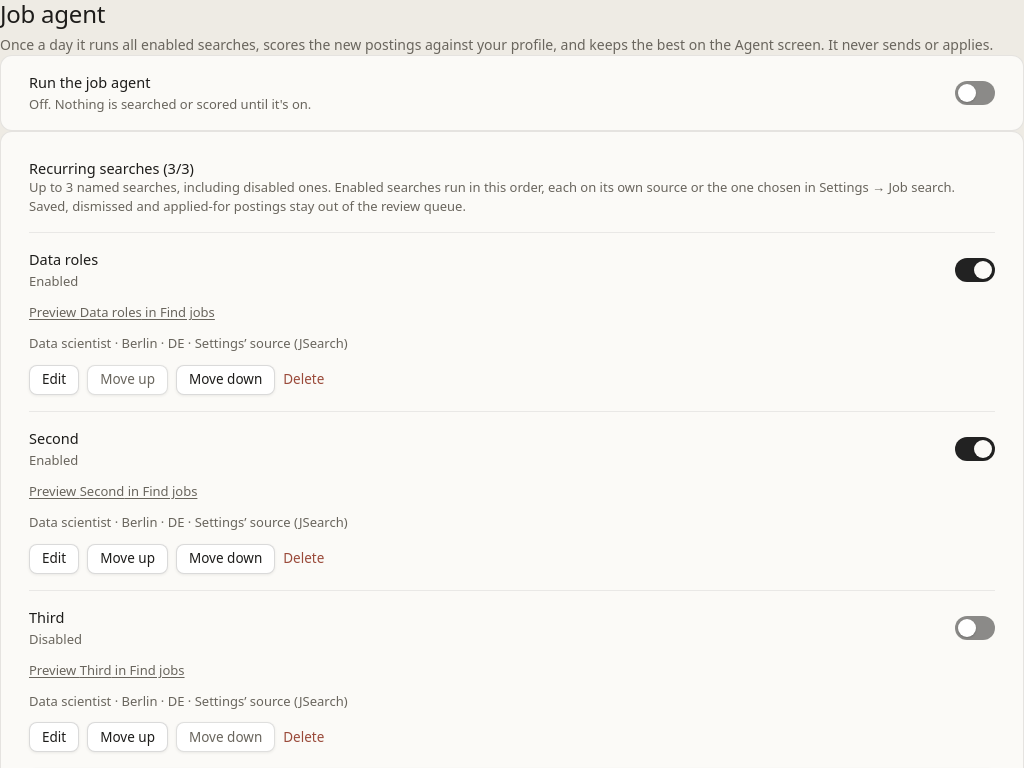
Scenario: Settings → Job agent › caps at three including disabled searches, moves accessibly and confirms deletion
This screenshot has width=1024, height=768.
Expected: the button with aria-label "Move up: Data roles" is disabled, [87,365,168,395]
Click the button with aria-label "Move up: Second" at (128, 559), box [87,544,168,574]
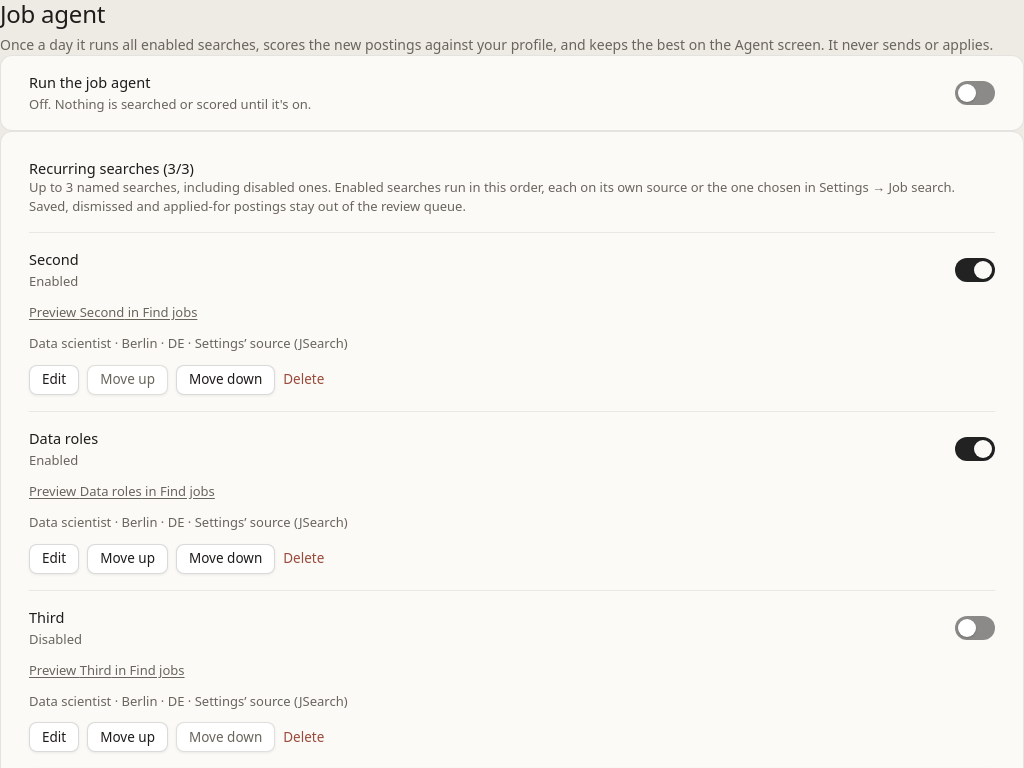
Expected: the button with aria-label "Move up: Second" is disabled, [87,365,168,395]
Click the button with aria-label "Delete Third" at (304, 737), box [283,722,324,752]
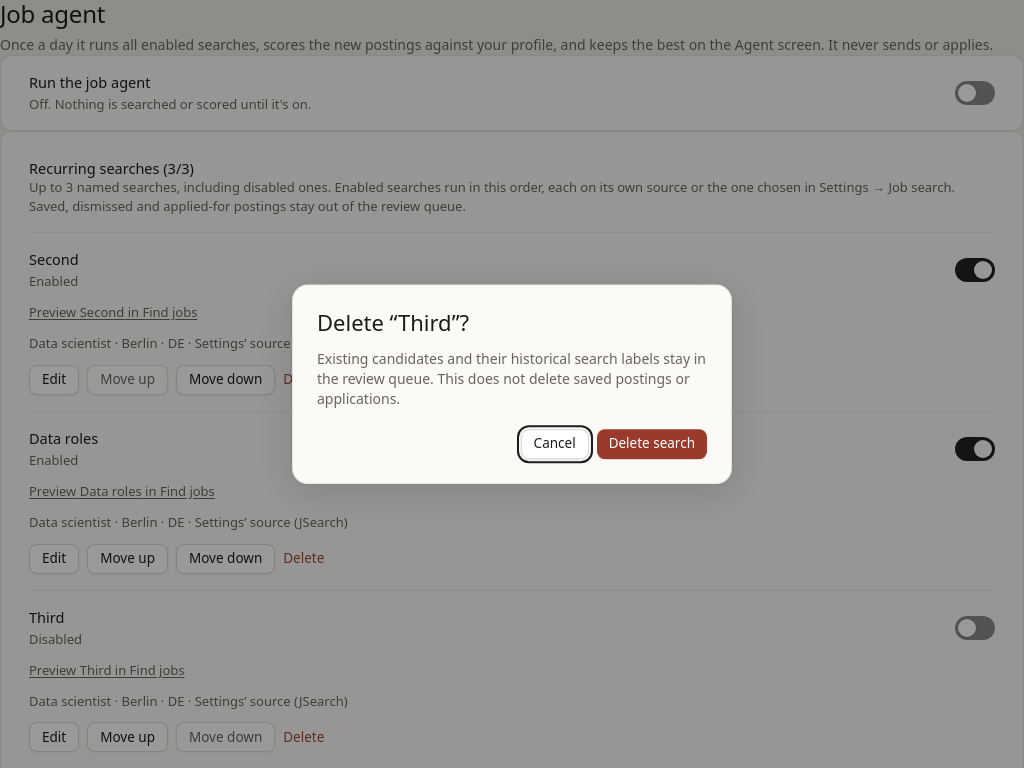
Expected: the dialog shows "Existing candidates and their historical search labels stay", [317,349,706,408]
Click the button "Delete search" at (652, 444), box [597,429,707,459]
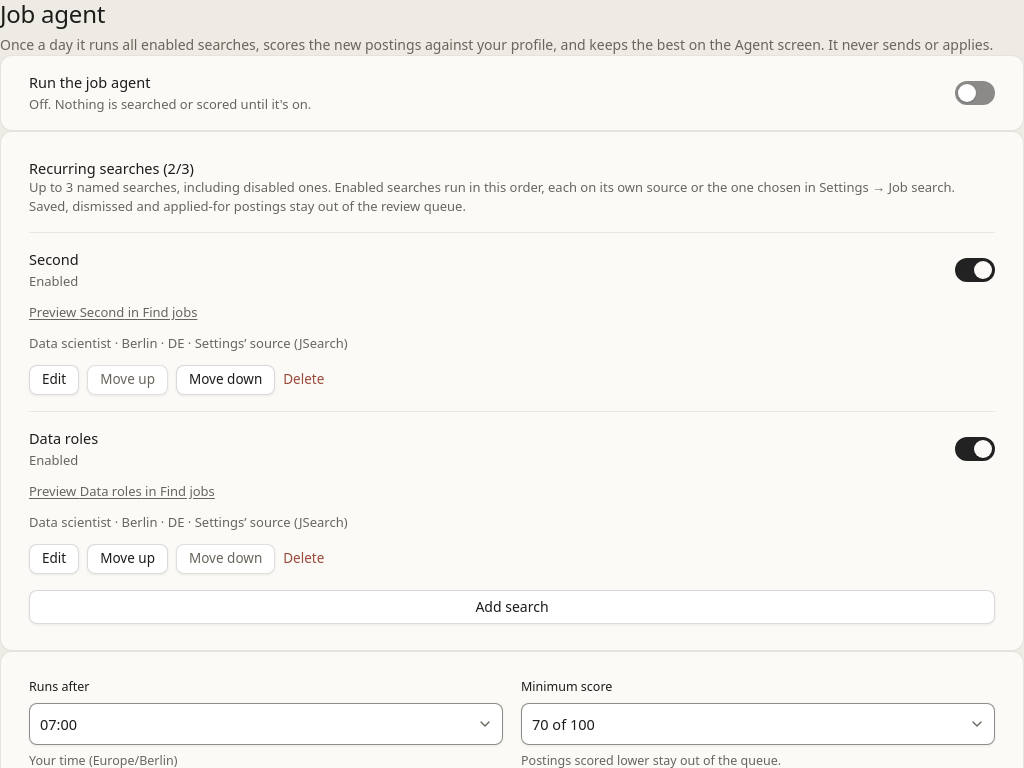
Expected: the button "Add search" is enabled, [29,590,995,624]
